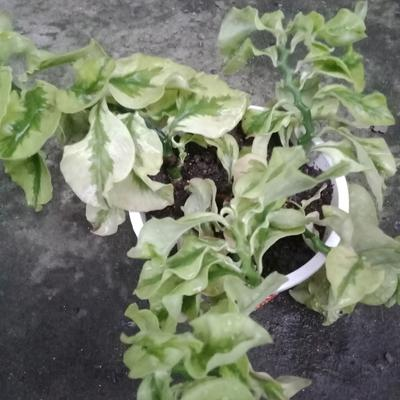Pothos plant: (17, 8, 391, 360)
